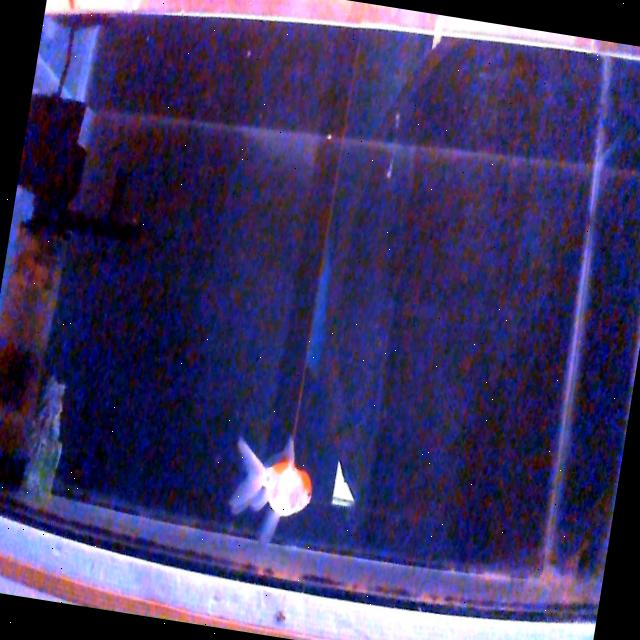fish: (221, 429, 321, 544)
